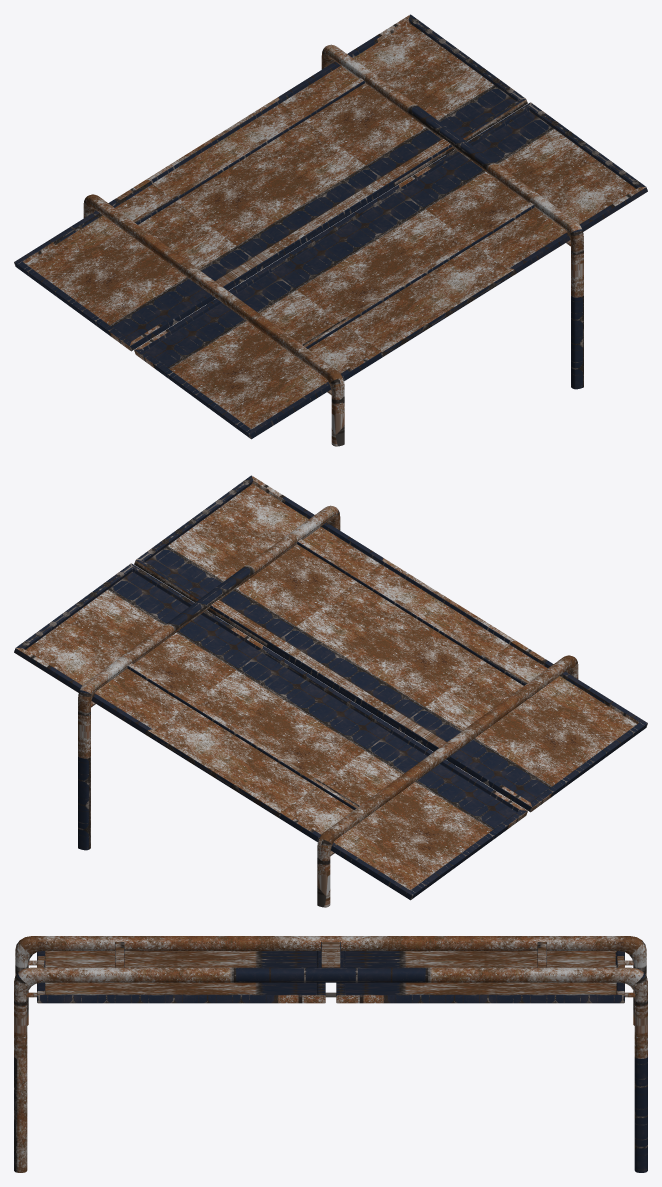
Rendered from SM_solar_panel.fbx.
The picture shows the model from 3 angles, top to bottom: view 1: azimuth 30°, elevation 25°; view 2: azimuth 150°, elevation 25°; view 3: azimuth 270°, elevation 25°; orthographic projection. The views are drawn at different scales.
Visible parts, largest first — view 1: SM_solar_panel_LOD0; view 2: SM_solar_panel_LOD0; view 3: SM_solar_panel_LOD0.
Part boxes in pixels (x1,y1,x2,y2): SM_solar_panel_LOD0: (14, 14, 647, 446); SM_solar_panel_LOD0: (14, 475, 647, 907); SM_solar_panel_LOD0: (14, 936, 647, 1172).
Bounding box in the file's own units: 217 × 240 × 91.89.
